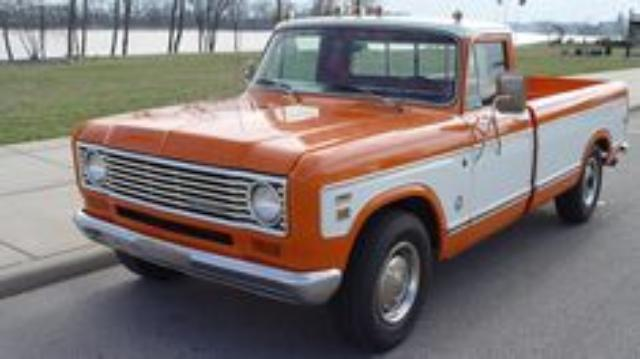pickup-truck: (68, 15, 632, 350)
